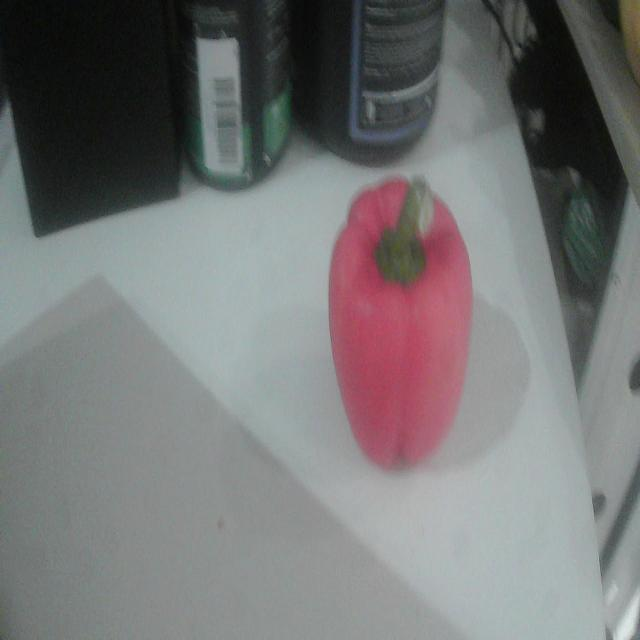Bell Pepper: (330, 178, 472, 468)
